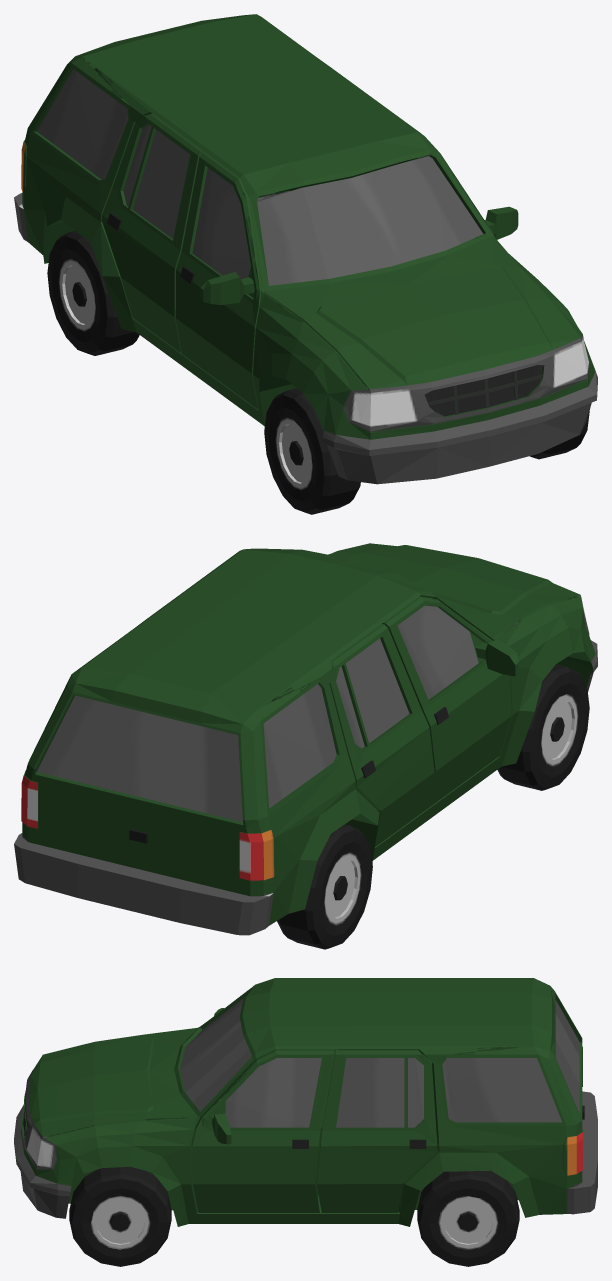
Rendered from Jeep4NoInside.fbx.
The picture shows the model from 3 angles, top to bottom: view 1: azimuth 30°, elevation 25°; view 2: azimuth 150°, elevation 25°; view 3: azimuth 270°, elevation 25°; orthographic projection. The views are drawn at different scales.
Visible parts, largest first — view 1: Jeep4NoInside; view 2: Jeep4NoInside; view 3: Jeep4NoInside.
Boxes of the visible parts, x1,y1,x2,y2 form: Jeep4NoInside: (14,14,597,514); Jeep4NoInside: (14,543,597,949); Jeep4NoInside: (14,978,597,1266).
Size of the model in its own units: 304 by 240 by 609.
